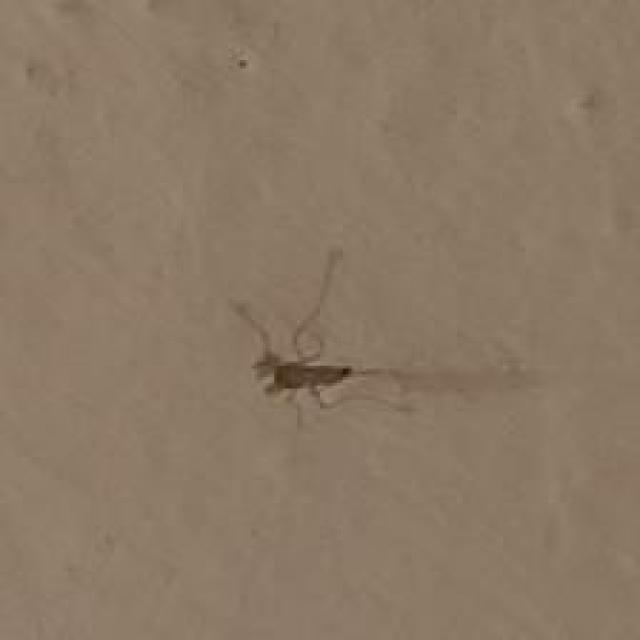Culex: (226, 245, 414, 426)
